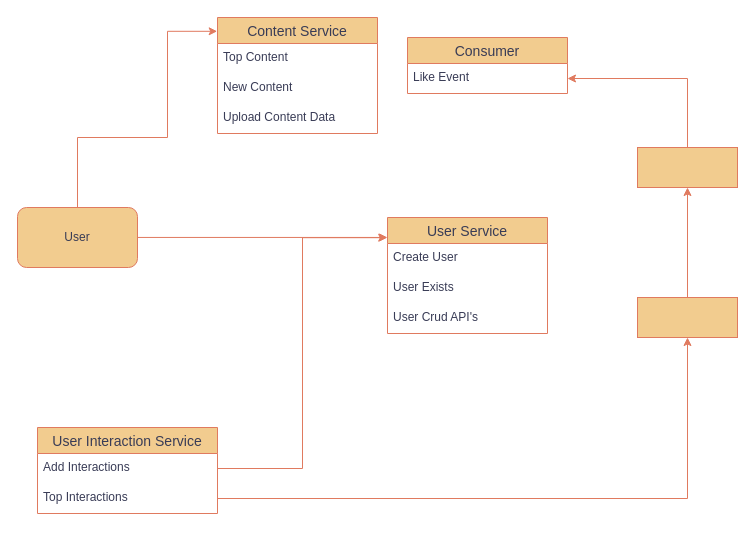
Image size: 755x534. Some labels were removed from this diagram. Here are the shapes that lost their labels. From the top down, the centre of each, then its label:
At [687,167]: "Queue".
At [687,317]: "RabbitMQ".
